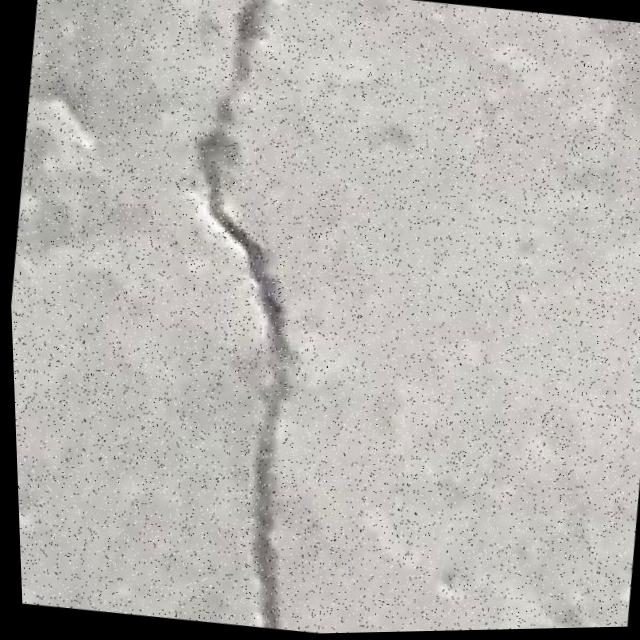Crack: (117, 0, 364, 634)
